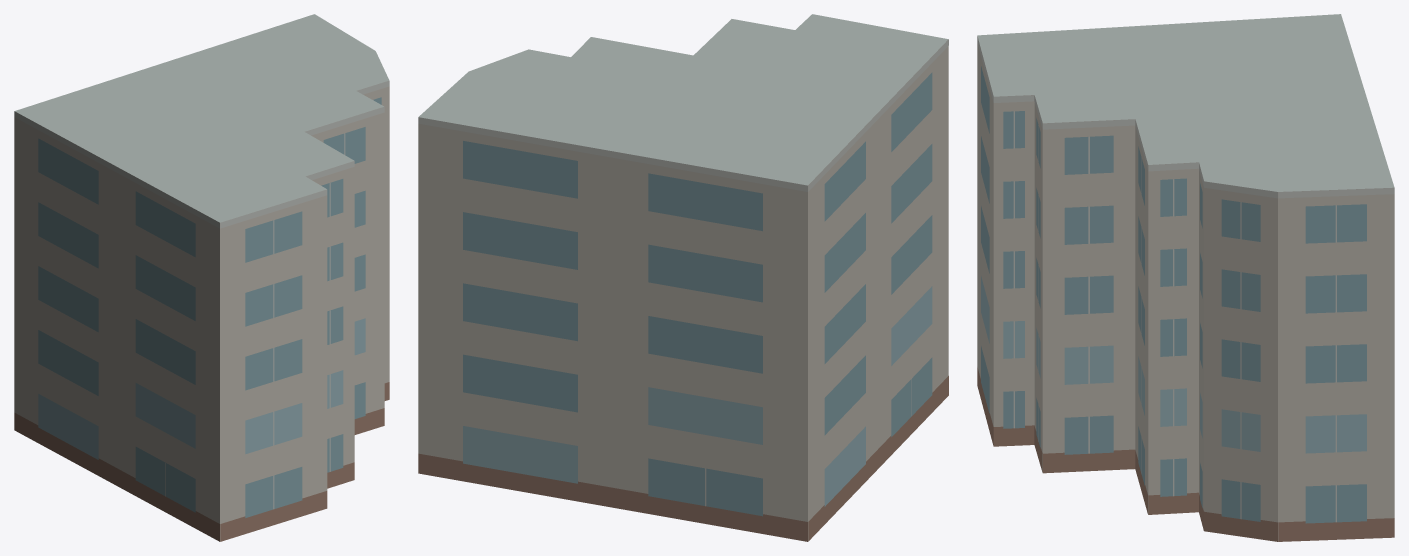
Rendered from survey-upis-32718701.glb.
The picture shows the model from 3 angles, left to right: view 1: azimuth 30°, elevation 25°; view 2: azimuth 150°, elevation 25°; view 3: azimuth 270°, elevation 25°; orthographic projection. The views are drawn at different scales.
Parts seen in each view (by area): view 1: survey-upis-32718701.tmp; view 2: survey-upis-32718701.tmp; view 3: survey-upis-32718701.tmp.
Part boxes in pixels (left/top/right/bottom): survey-upis-32718701.tmp: left=14, top=14, right=389, bottom=541; survey-upis-32718701.tmp: left=418, top=14, right=948, bottom=541; survey-upis-32718701.tmp: left=977, top=14, right=1394, bottom=541.
Size of the model in its own units: 14.52 by 13.3 by 14.39.
